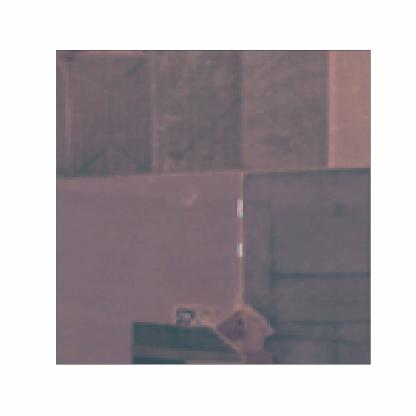silobolsa: (236, 198, 242, 220)
